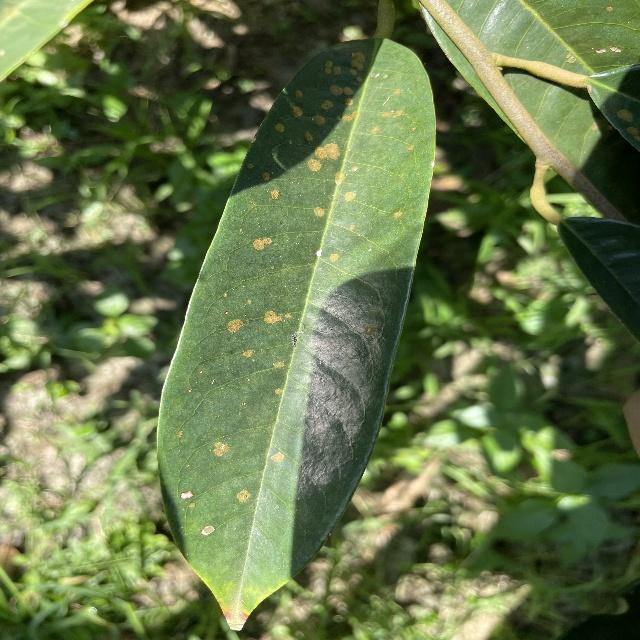Algal Leaf Spot: (146, 25, 443, 640)
